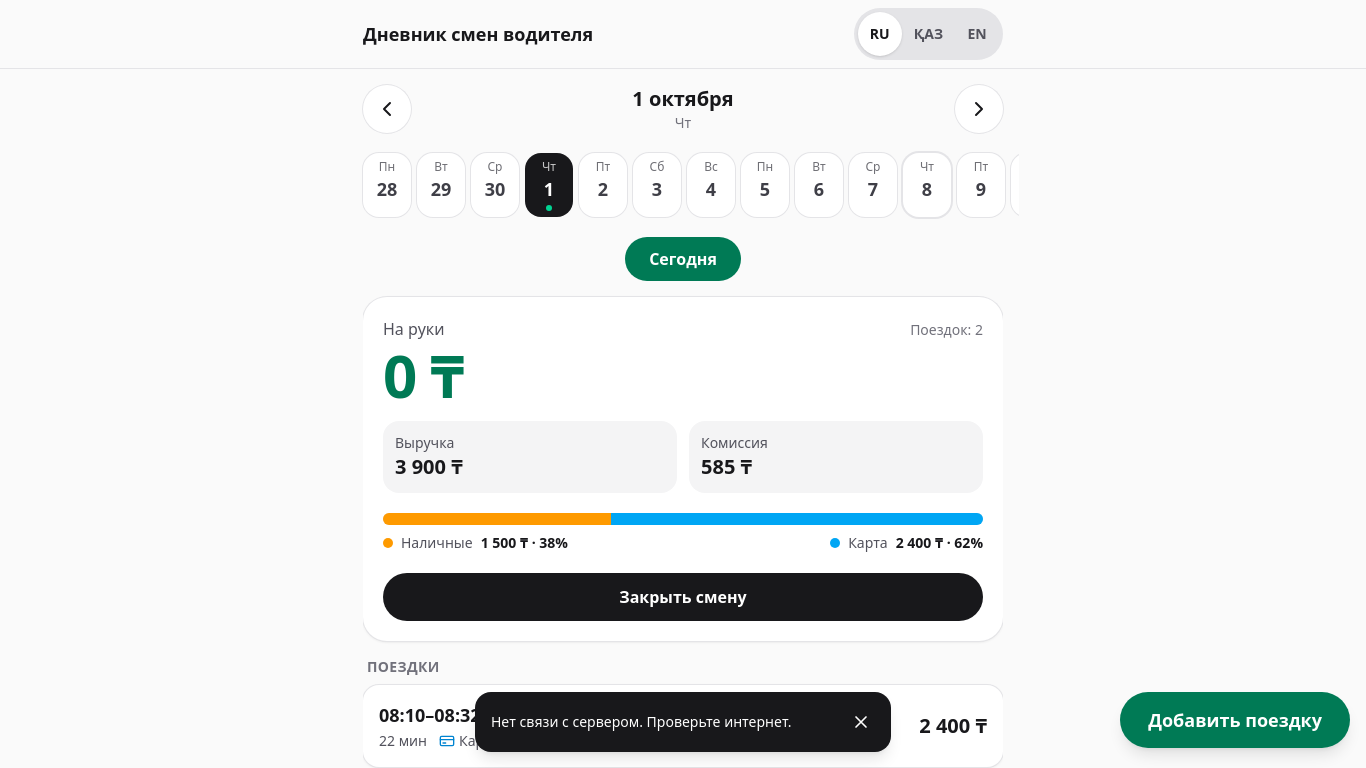
Test: language › switches to EN, persists it and updates <html lang>
The image size is (1366, 768).
Click the button "EN". click: point(977, 34)
box: [955, 12, 999, 56]
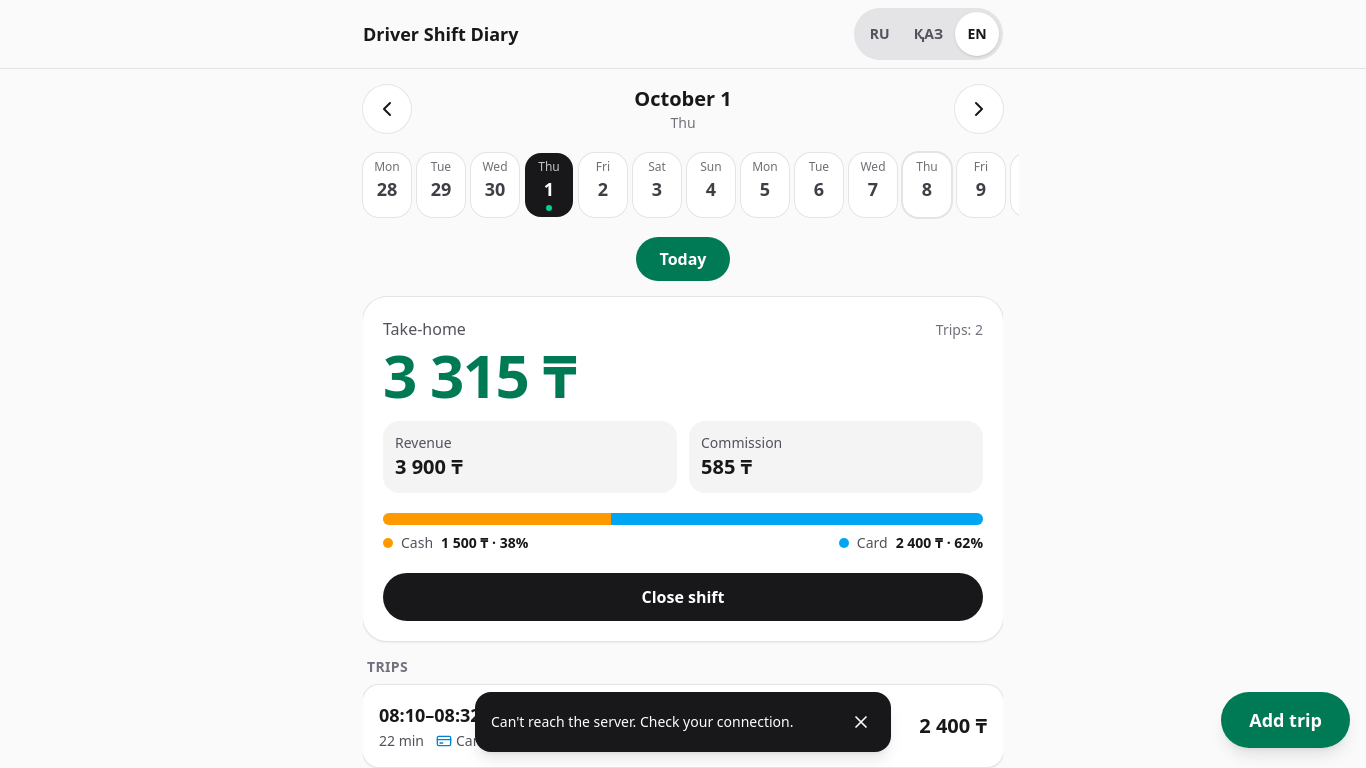
Expected: the text "Take-home" is shown, [383, 317, 466, 341]
Expected: the heading "Driver Shift Diary" is shown, [363, 23, 518, 45]
